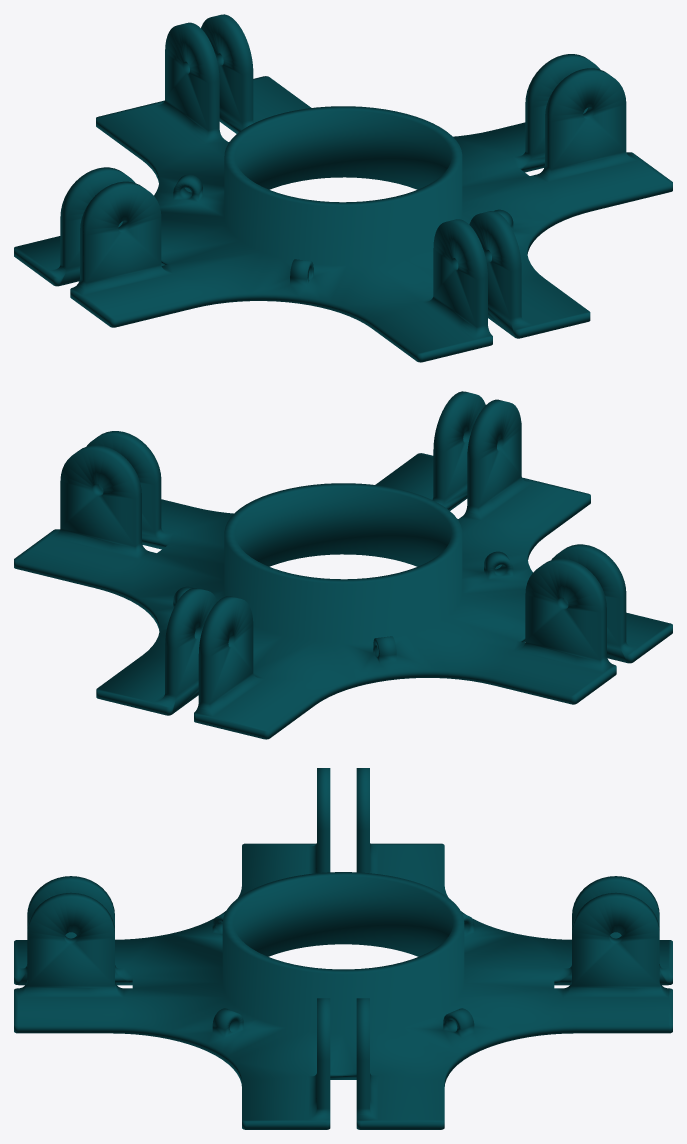
The picture shows the model from 3 angles, top to bottom: view 1: azimuth 30°, elevation 25°; view 2: azimuth 150°, elevation 25°; view 3: azimuth 270°, elevation 25°; orthographic projection.
Parts seen in each view (by area): view 1: base; view 2: base; view 3: base.
Part boxes in pixels (x1=…): base: x1=14, y1=14, x2=672, y2=362; base: x1=14, y1=391, x2=672, y2=739; base: x1=14, y1=768, x2=672, y2=1129.
Bounding box in the file's own units: 0.15 × 0.15 × 0.026.
